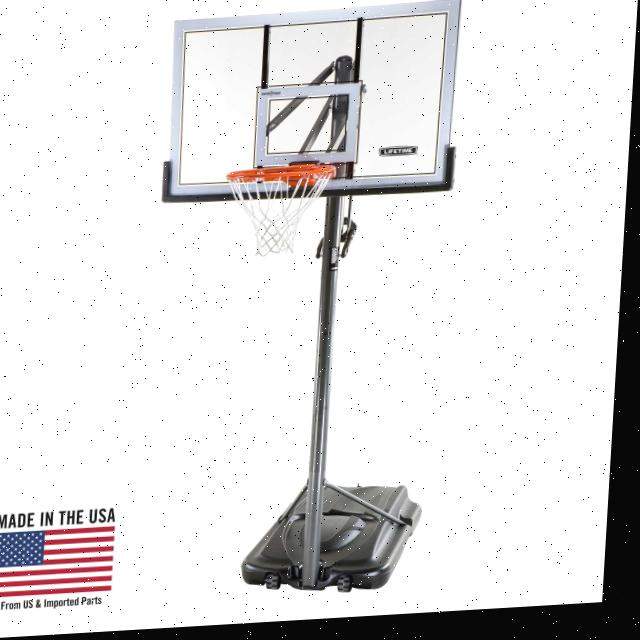hoop: (222, 165, 336, 258)
